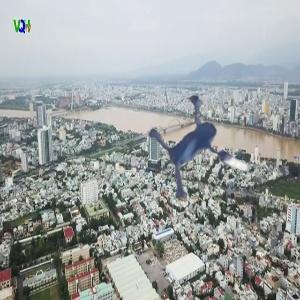drone: (130, 82, 277, 229)
